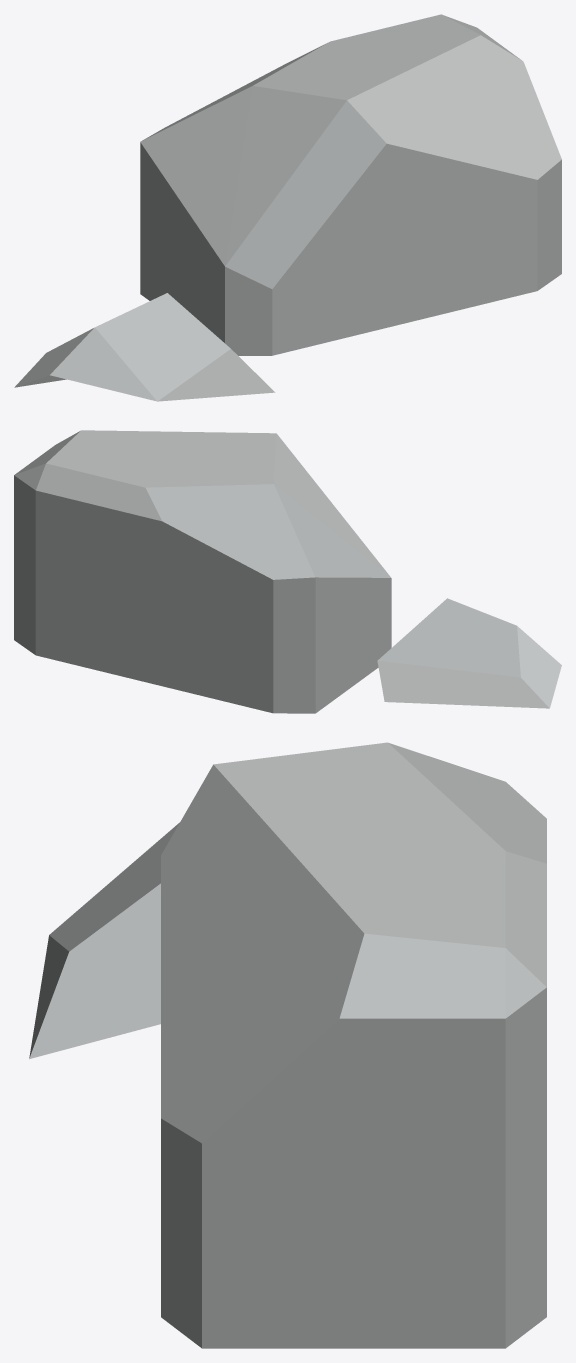
Rendered from Rock_Block_crk_m_03.fbx.
The picture shows the model from 3 angles, top to bottom: view 1: azimuth 30°, elevation 25°; view 2: azimuth 150°, elevation 25°; view 3: azimuth 270°, elevation 25°; orthographic projection. The views are drawn at different scales.
Parts seen in each view (by area): view 1: Rock_Block_crk_m_03; view 2: Rock_Block_crk_m_03; view 3: Rock_Block_crk_m_03.
Part boxes in pixels (x1=…): Rock_Block_crk_m_03: x1=14, y1=14, x2=561, y2=401; Rock_Block_crk_m_03: x1=14, y1=430, x2=561, y2=713; Rock_Block_crk_m_03: x1=29, y1=742, x2=546, y2=1348.
Bounding box in the file's own units: 194 × 78.45 × 91.53.
